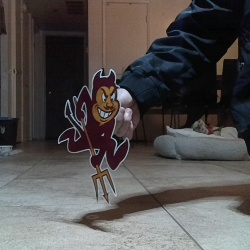sparky: (57, 68, 131, 206)
